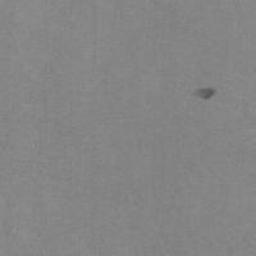Inclusion: (194, 88, 216, 99)
